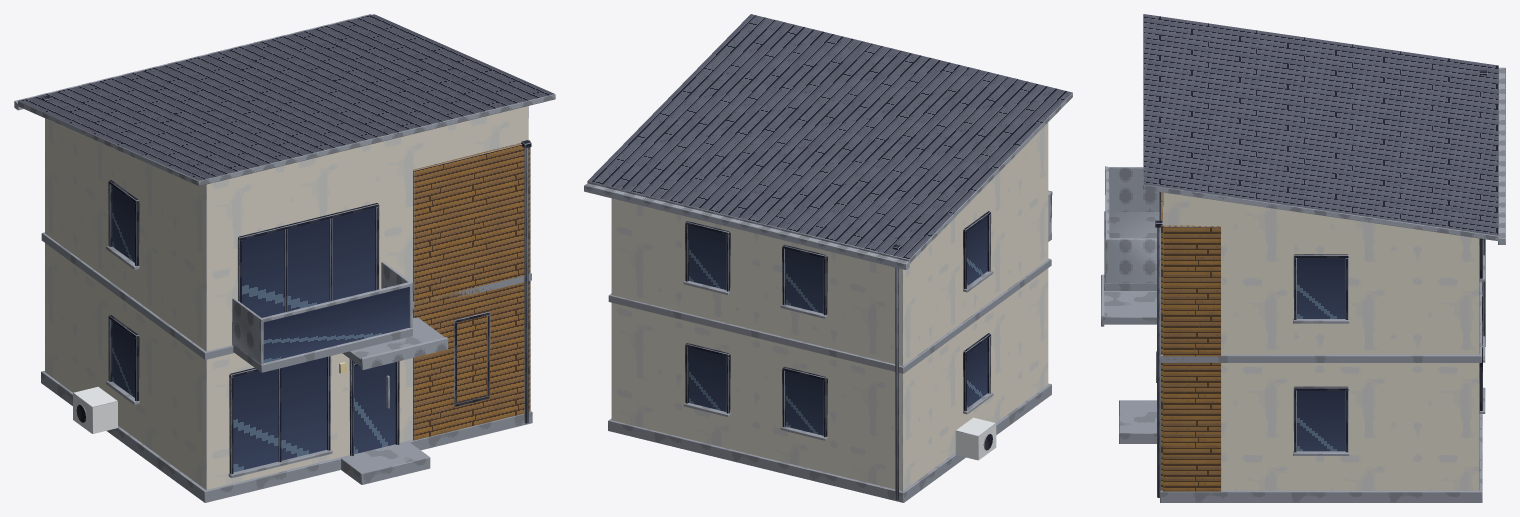
File: modern_house_4.glb
3 renders of one model, left to right at view 1: azimuth 30°, elevation 25°; view 2: azimuth 150°, elevation 25°; view 3: azimuth 270°, elevation 25°, orthographic. The views are drawn at different scales.
Parts seen in each view (by area): view 1: modern_house_5; view 2: modern_house_5; view 3: modern_house_5.
Boxes of the visible parts, left/top/right/bottom form: modern_house_5: left=14, top=14, right=555, bottom=502; modern_house_5: left=584, top=14, right=1072, bottom=502; modern_house_5: left=1101, top=14, right=1505, bottom=502.
Size of the model in its own units: 8.58 by 7.37 by 8.31.
Materials: 11 (11 with a texture image).
